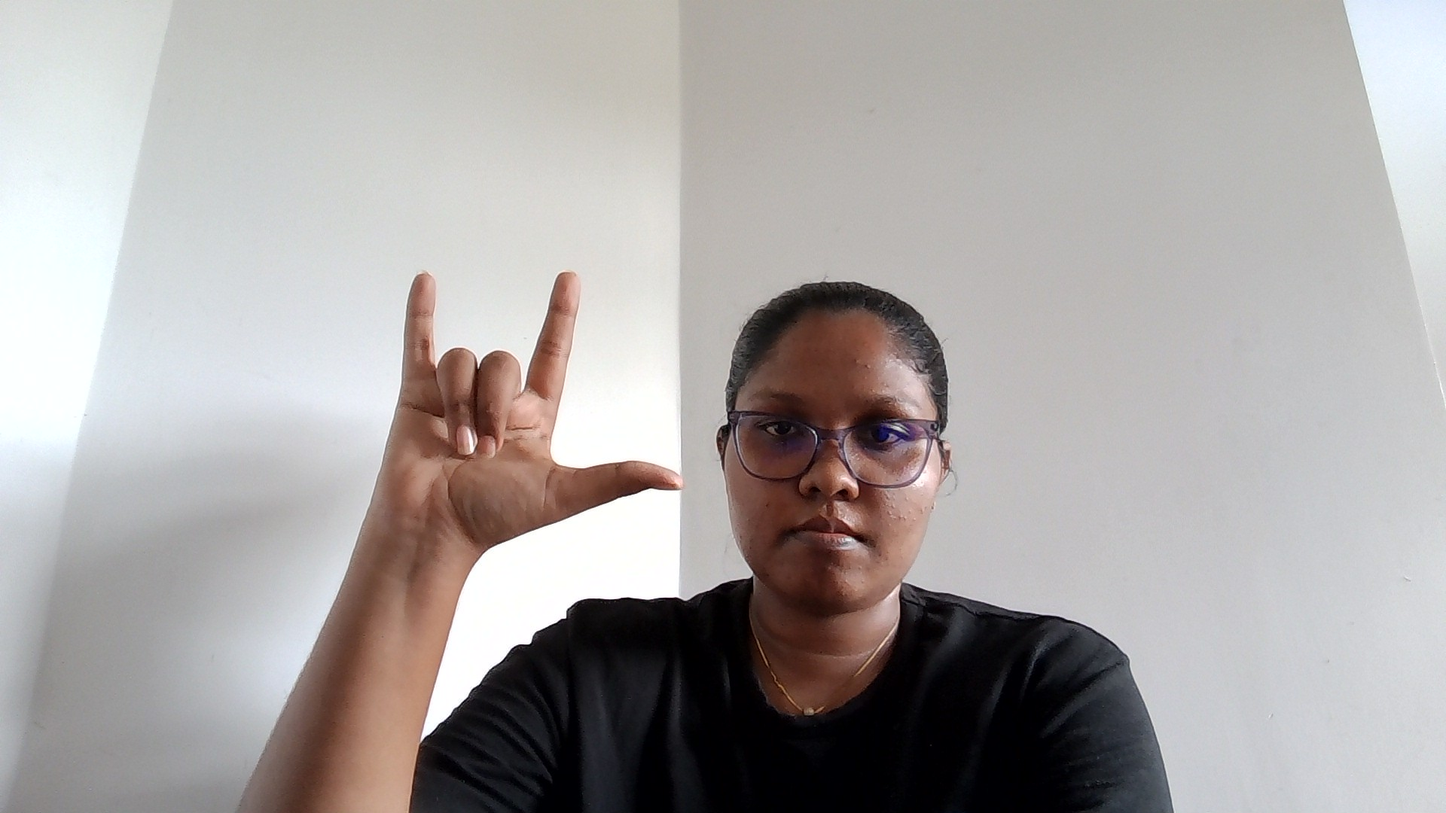I Love You: (333, 225, 723, 594)
